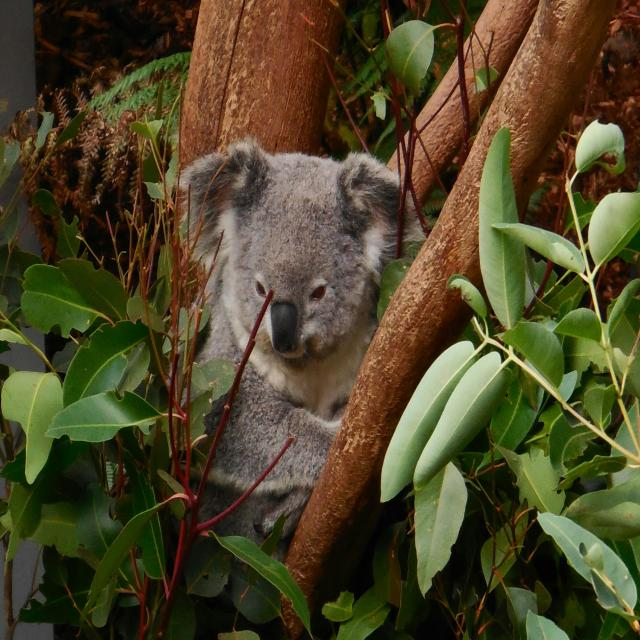Koala: (182, 141, 397, 490)
